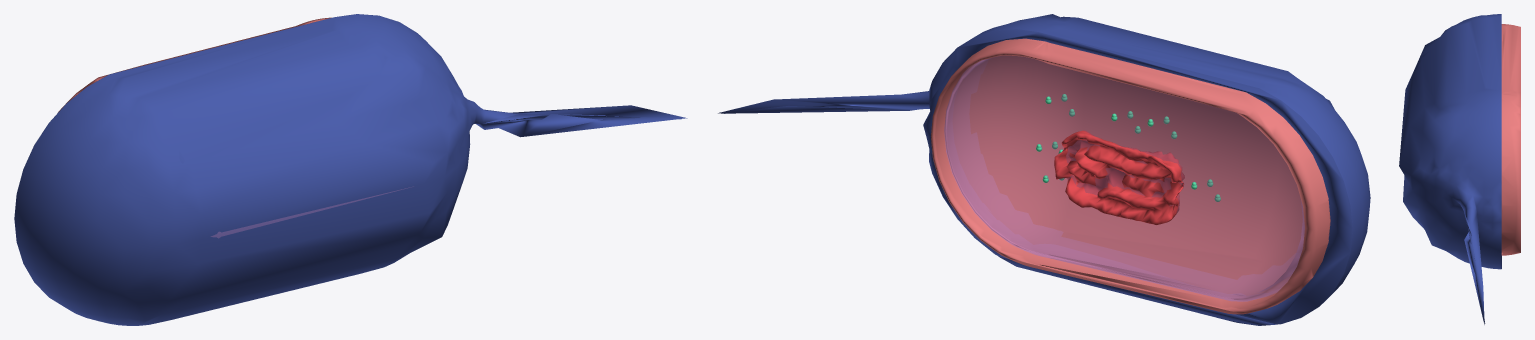
Rendered from bacteria.glb.
3 views of the same model, side by side, from view 1: azimuth 30°, elevation 25°; view 2: azimuth 150°, elevation 25°; view 3: azimuth 270°, elevation 25° (orthographic). The views are drawn at different scales.
Parts seen in each view (by area): view 1: parete, citoplasma; view 2: membrana, citoplasma, parete, nucleoide, ribosoma.023; view 3: parete, membrana.
Boxes of the visible parts, box(x1,y1,x2,y2) form: parete: box(14, 14, 687, 325); citoplasma: box(211, 187, 409, 238); membrana: box(931, 38, 1330, 314); citoplasma: box(944, 56, 1328, 301); parete: box(718, 14, 1370, 325); nucleoide: box(1054, 130, 1184, 224); ribosoma.023: box(1036, 94, 1220, 201); parete: box(1399, 14, 1501, 324); membrana: box(1501, 24, 1520, 255).
Bounding box in the file's own units: 2.32 × 0.8293 × 0.5386.
